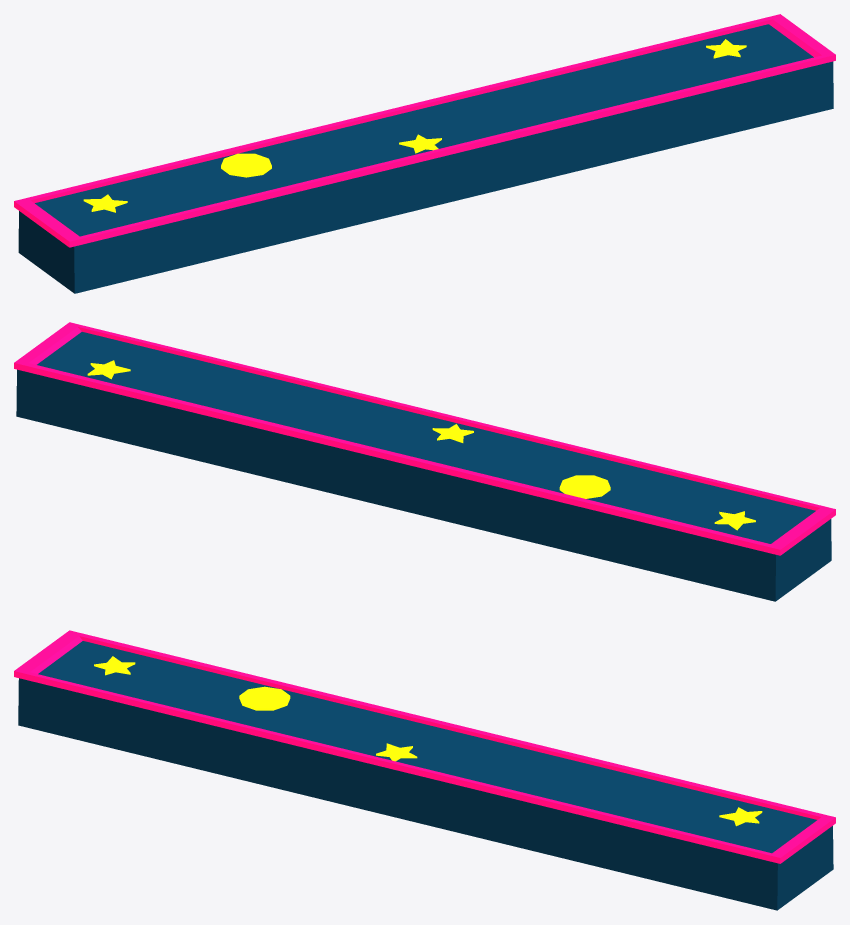
File: spaceChunk2.gltf
The picture shows the model from 3 angles, top to bottom: view 1: azimuth 30°, elevation 25°; view 2: azimuth 150°, elevation 25°; view 3: azimuth 330°, elevation 25°; orthographic projection.
Parts seen in each view (by area): view 1: spaceChunk2; view 2: spaceChunk2; view 3: spaceChunk2.
Boxes of the visible parts, bbox=[...] form: spaceChunk2: bbox=[14, 14, 835, 293]; spaceChunk2: bbox=[14, 322, 835, 601]; spaceChunk2: bbox=[14, 630, 835, 910].
Size of what is drawn, in the model's own units: 15.94 by 1.05 by 2.03.
Materials: 1 (1 with a texture image).
